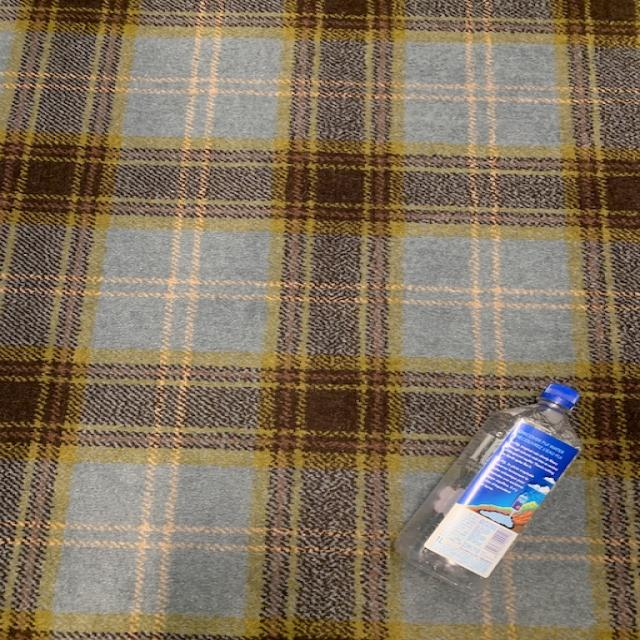litter: (390, 384, 585, 590)
